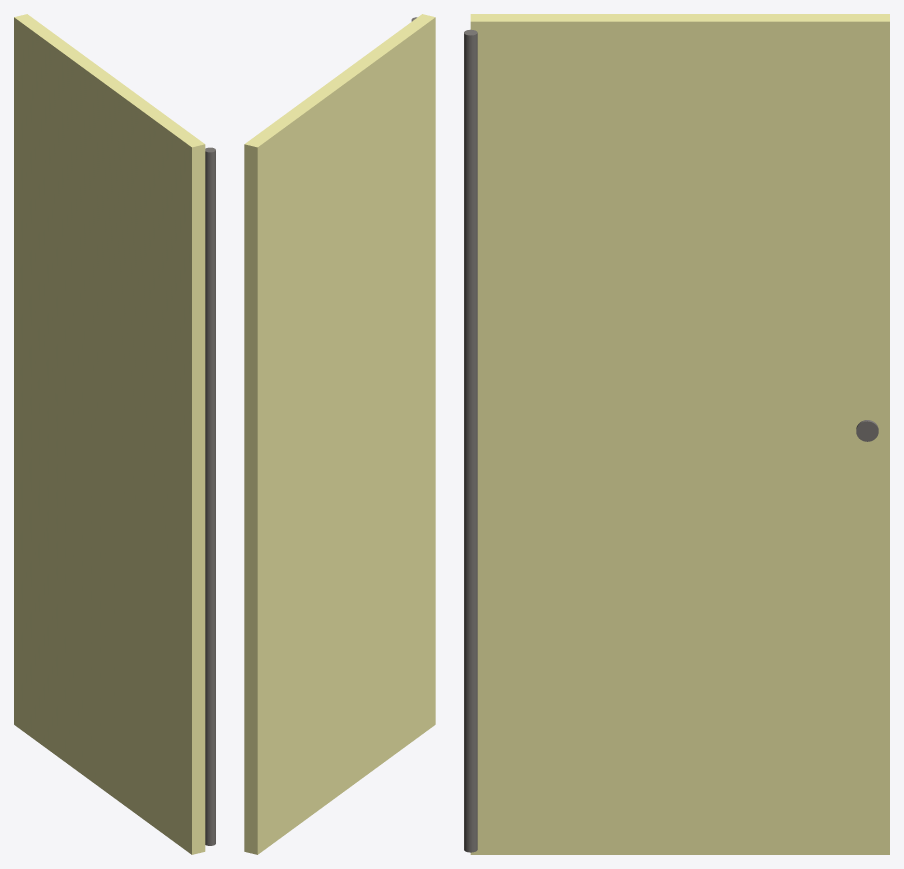
The model's file is 1dof.dae.
3 views of the same model, side by side, from view 1: azimuth 30°, elevation 25°; view 2: azimuth 150°, elevation 25°; view 3: azimuth 270°, elevation 25° (orthographic). The views are drawn at different scales.
Visible parts, largest first — view 1: door; view 2: door; view 3: door.
Part boxes in pixels (x1,y1,x2,y2): door: (14,14,215,854); door: (244,14,435,854); door: (464,14,889,854).
Bounding box in the file's own units: 0.07 × 0.945 × 2.04.
